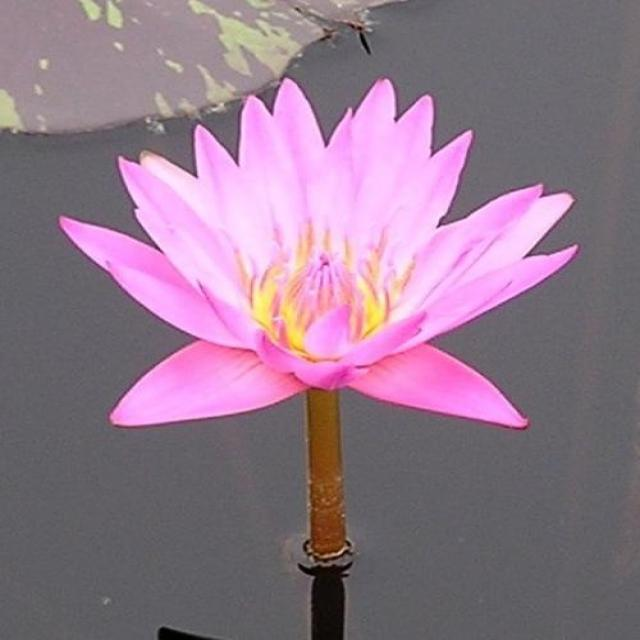rose: (24, 52, 616, 563)
